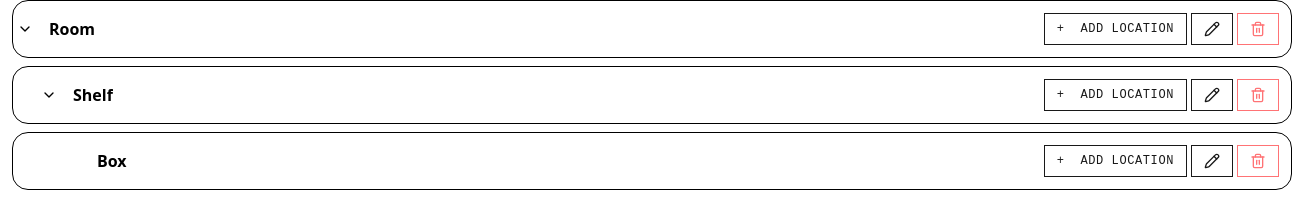
Test: LocationTreeNodeItem › collapses and expands the children with a localized, named toggle
Expected: the text "Shelf" is shown, [73, 83, 113, 107]
What coordinates should you click on to do the following:
click the button named "Collapse Room"
I would click on:
 (25, 29)
Its box is [13, 17, 37, 41].
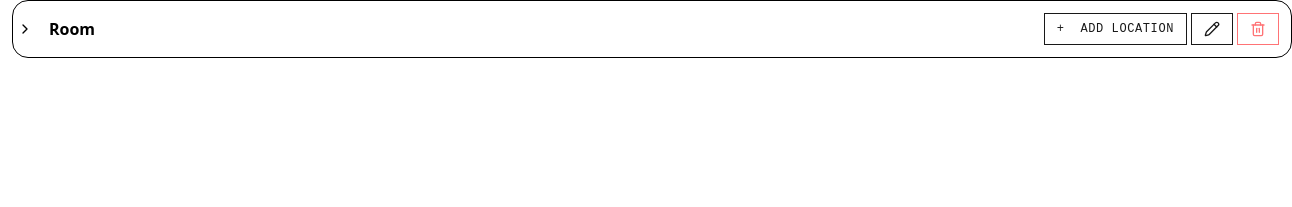
Expected: the text "Shelf" is gone
What coordinates should you click on to do the following:
click the button named "Expand Room"
I would click on:
 (25, 29)
Its box is [13, 17, 37, 41].
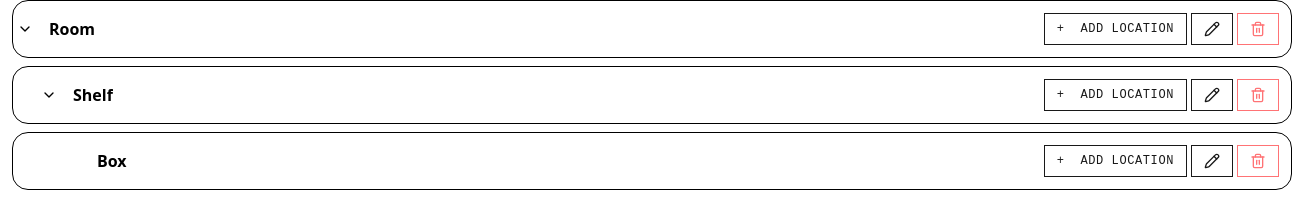
Expected: the text "Shelf" is shown, [73, 83, 113, 107]
